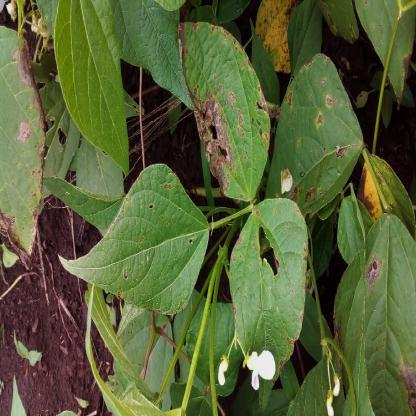Beans_Angular_LeafSpot: (54, 164, 211, 305), (165, 9, 272, 205), (226, 197, 316, 395), (280, 52, 361, 223), (348, 212, 413, 412), (1, 27, 45, 260)
